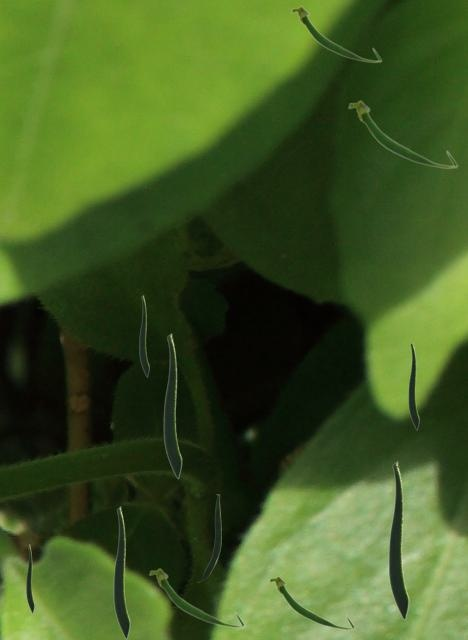french_bean: (347, 99, 457, 168), (148, 567, 244, 627), (290, 5, 381, 62), (268, 575, 354, 629), (388, 461, 408, 619), (163, 333, 181, 478), (113, 506, 129, 638), (198, 494, 220, 581), (408, 342, 418, 429), (139, 295, 148, 376), (26, 544, 33, 612)
